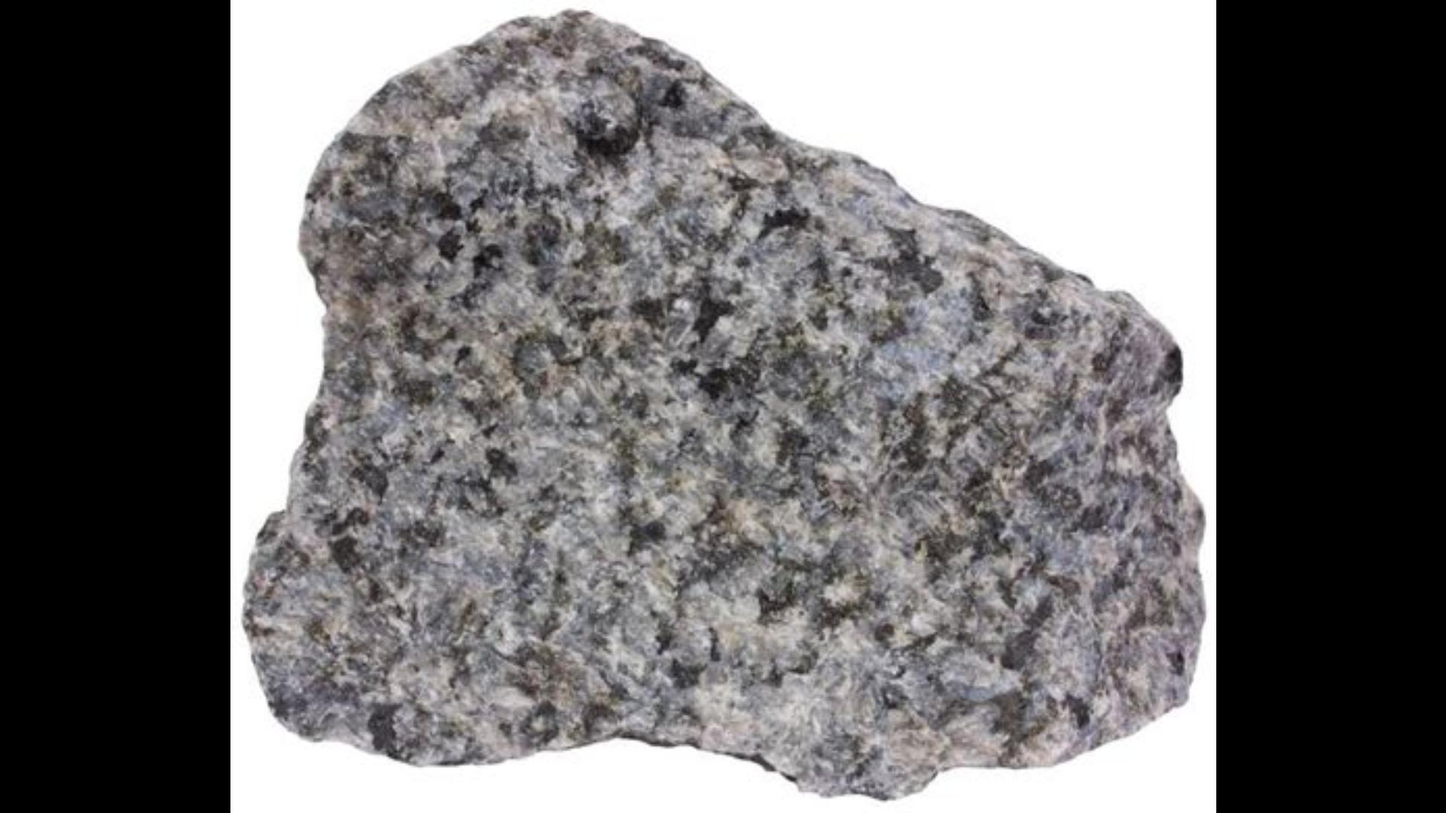rock: (242, 12, 1199, 794)
